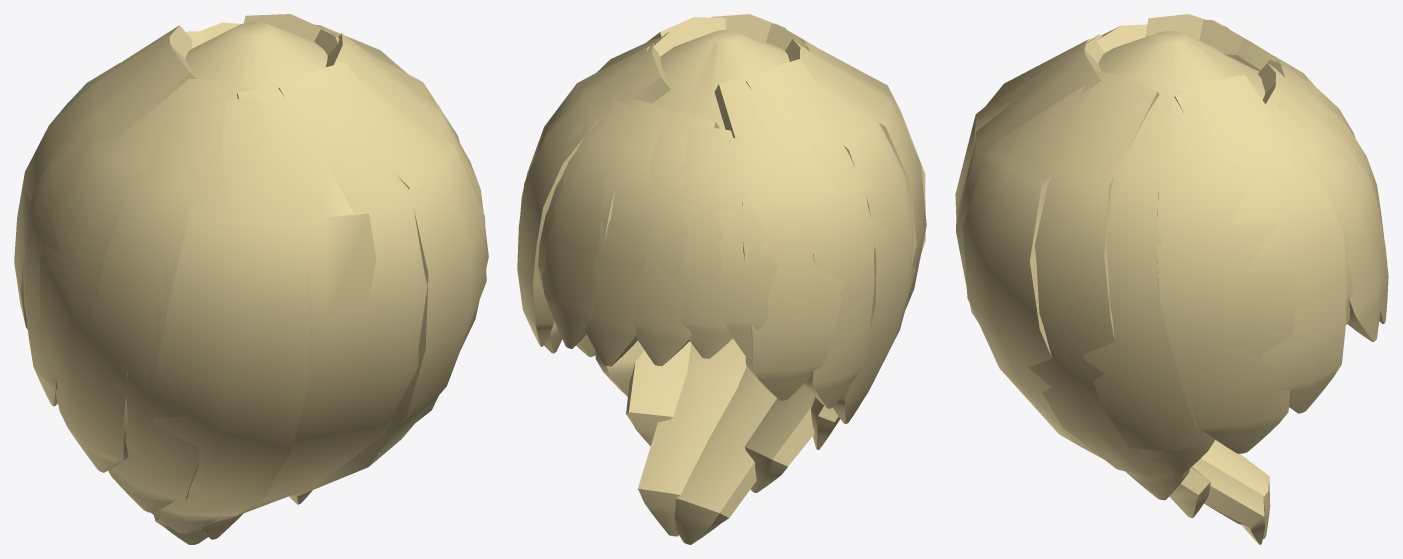
The model's file is hair_0.fbx.
The picture shows the model from 3 angles, left to right: view 1: azimuth 30°, elevation 25°; view 2: azimuth 150°, elevation 25°; view 3: azimuth 270°, elevation 25°; orthographic projection. The views are drawn at different scales.
Visible parts, largest first — view 1: Hair; view 2: Hair; view 3: Hair.
Part boxes in pixels (bbox=[...]): Hair: bbox=[14, 14, 488, 544]; Hair: bbox=[517, 14, 926, 544]; Hair: bbox=[955, 14, 1388, 544].
Size of the model in its own units: 0.2482 by 0.3296 by 0.257.
